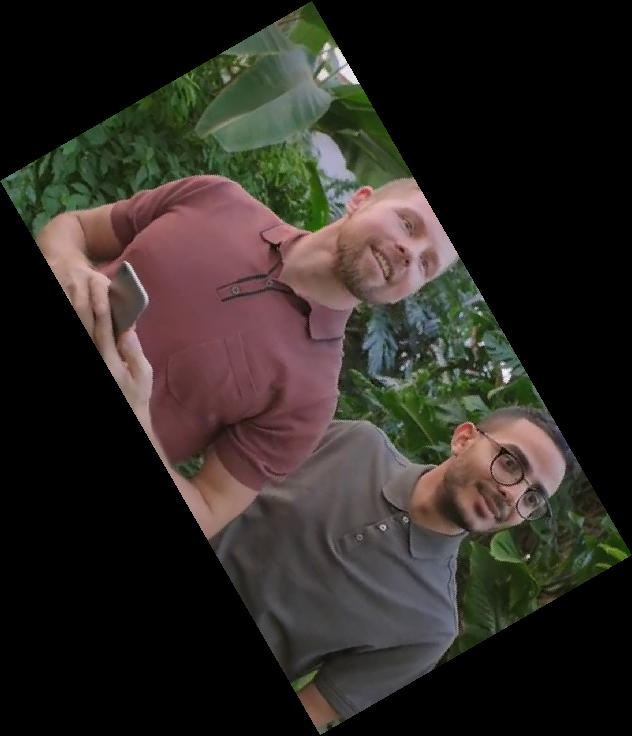phone: (104, 256, 151, 343)
